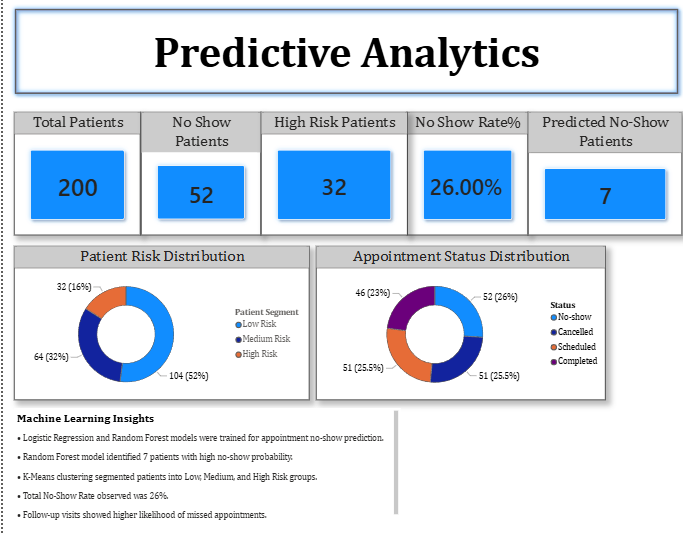

What the dashboard file says about the page in this screenshot:
{"tool":"powerbi","page":{"name":"Predictive Analytics","canvas":[1280,1020],"ordinal":5},"visuals":[{"type":"donutChart","title":"Patient Risk Distribution","fields":{"Category":["healthcare_segmented.Patient_Segment"],"Y":["CountNonNull(healthcare_segmented.Patient_Segment)"]},"box":[20.7,476.8,555.6,290.2],"z":0},{"type":"cardVisual","title":"Total Patients","fields":{"Data":["CountNonNull(healthcare_segmented.Patient_Segment)"]},"box":[20.7,223.9,238.4,232.2],"z":1000},{"type":"donutChart","title":"Appointment Status Distribution","fields":{"Category":["master_healthcare_dataset.status"],"Y":["CountNonNull(master_healthcare_dataset.status)"]},"box":[588.8,476.8,545.2,290.2],"z":2000},{"type":"cardVisual","title":"No Show Patients","fields":{"Data":["master_healthcare_dataset.No Show Patients"]},"box":[259.1,223.9,226,232.2],"z":3000},{"type":"cardVisual","title":"No Show Rate%","fields":{"Data":["master_healthcare_dataset.No Show Rate %"]},"box":[760.9,223.9,228,232.2],"z":4000},{"type":"cardVisual","title":"High Risk Patients","fields":{"Data":["master_healthcare_dataset.High Risk Patients"]},"box":[485.1,223.9,275.7,232.2],"z":5000},{"type":"cardVisual","title":"Predicted No-Show Patients","fields":{"Data":["predicted_no_show.Predicted No Show Patients"]},"box":[988.9,223.9,290.2,232.2],"z":6000},{"type":"textbox","box":[20.7,781.6,727.7,217.7],"z":7000},{"type":"actionButton","box":[12.4,20.7,1266.7,178.3],"z":8000}]}

Visuals, with their boxes in screenshot pixels (x1, y1, x2, y2), scaled from the page's 1280x1020 canvas onto the 683x534 screenshot:
"Patient Risk Distribution" donutChart: 11,250,308,402
"Total Patients" cardVisual: 11,117,138,239
"Appointment Status Distribution" donutChart: 314,250,605,402
"No Show Patients" cardVisual: 138,117,259,239
"No Show Rate%" cardVisual: 406,117,528,239
"High Risk Patients" cardVisual: 259,117,406,239
"Predicted No-Show Patients" cardVisual: 528,117,682,239
textbox: 11,409,399,523
actionButton: 7,11,682,104
